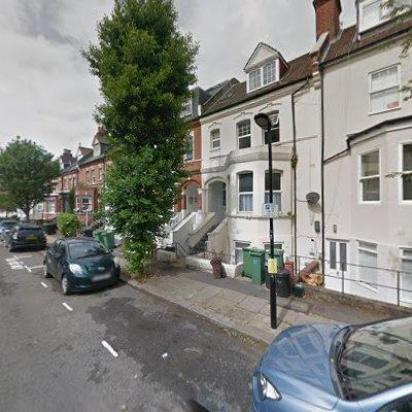stationary-car-onstreet: (250, 310, 412, 412), (42, 234, 122, 296), (4, 220, 48, 252)
